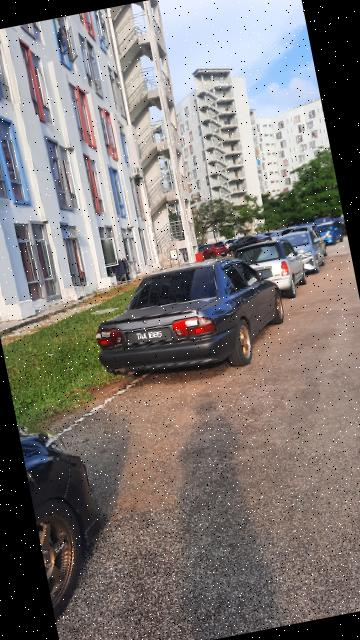License_Plate: (124, 323, 174, 352)
car: (86, 247, 293, 391), (226, 235, 311, 309), (277, 225, 332, 282)
